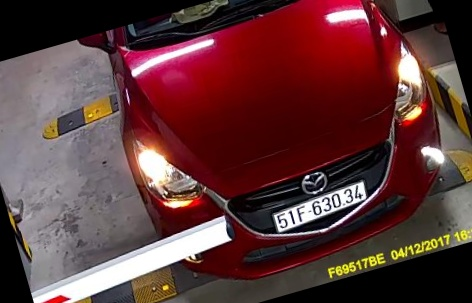plate: (272, 180, 370, 233)
